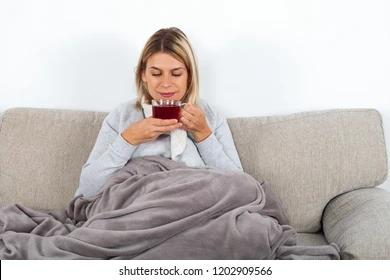blanket: (0, 154, 341, 260)
sweater: (76, 94, 249, 202)
